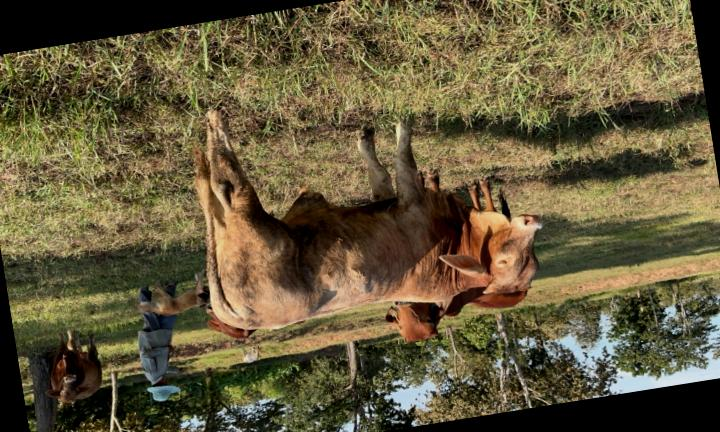Charolais: (195, 110, 542, 329)
